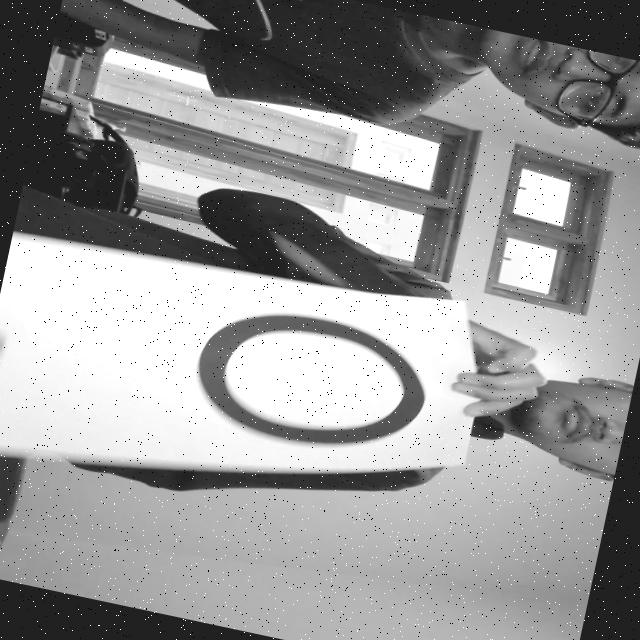o: (134, 270, 456, 490)
